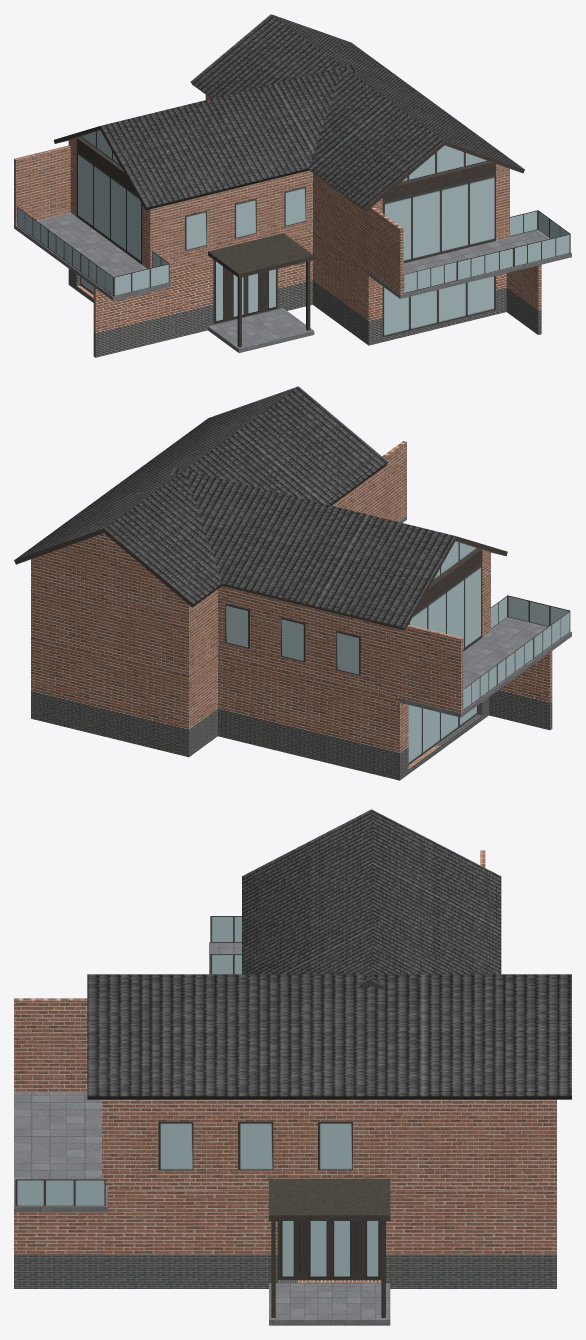
Rendered from Building.fbx.
The picture shows the model from 3 angles, top to bottom: view 1: azimuth 30°, elevation 25°; view 2: azimuth 150°, elevation 25°; view 3: azimuth 270°, elevation 25°; orthographic projection. The views are drawn at different scales.
Parts seen in each view (by area): view 1: Building; view 2: Building; view 3: Building.
Part boxes in pixels (x1,y1,x2,y2): Building: (14, 14, 571, 357); Building: (14, 386, 571, 780); Building: (14, 809, 571, 1325).
Bounding box in the file's own units: 10.07 × 4.45 × 8.46.
1 material, 1 textured.
